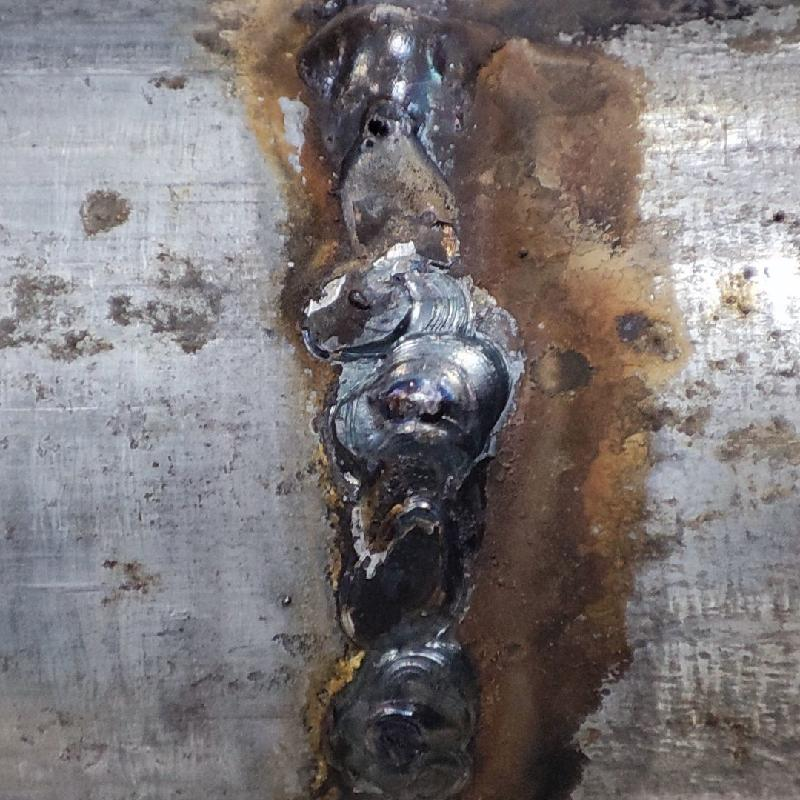Not_fully_soldered: (311, 110, 481, 332)
Surface_pores: (337, 104, 405, 152)
Weld: (284, 3, 507, 128)
wrong_size: (323, 340, 515, 799)
